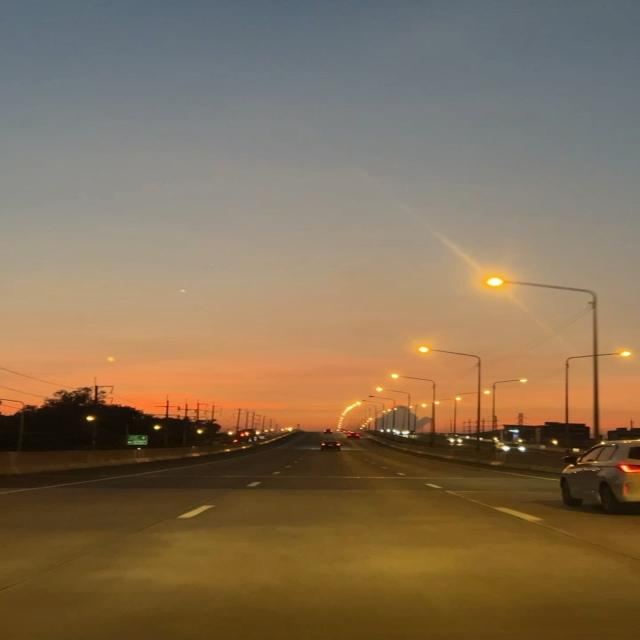Poth-hole: (121, 483, 507, 591)
